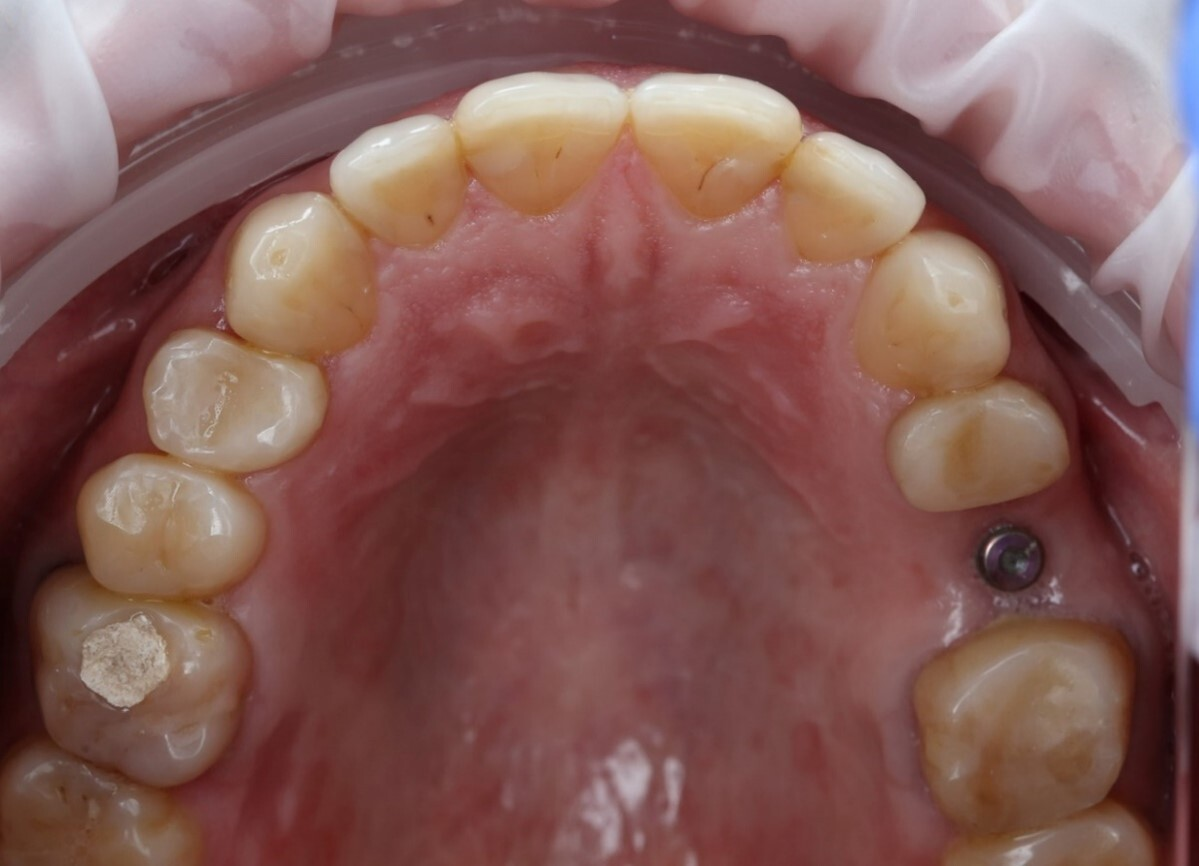UL1BC_healthy: (888, 387, 1067, 508)
UL1M_decay: (920, 628, 1126, 822)
UL2BC_decay: (935, 508, 1095, 617)
ULCI_decay: (630, 73, 800, 220)
ULC_healthy: (857, 233, 1007, 392)
ULLI_healthy: (789, 134, 924, 264)
UR1BC_healthy: (144, 331, 324, 471)
UR1M_decay: (34, 591, 228, 786)
UR2BC_healthy: (82, 454, 260, 594)
URCI_healthy: (455, 73, 621, 206)
URC_healthy: (224, 191, 372, 353)
URLI_decay: (332, 115, 463, 242)
